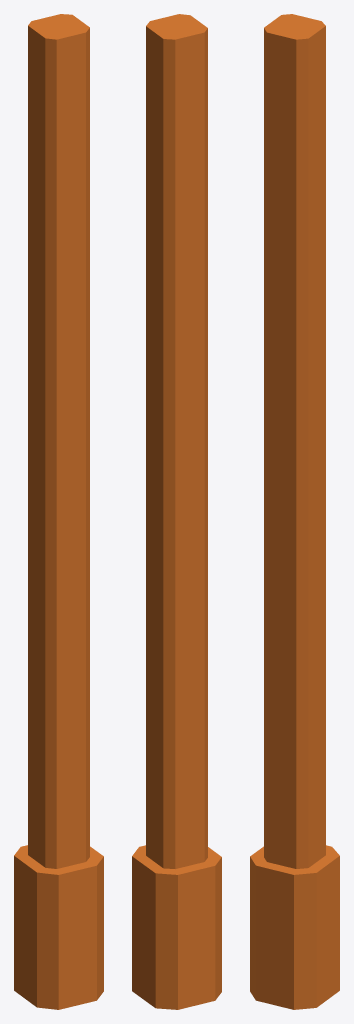
The model's file is Egyptian_pillar1.FBX.
The picture shows the model from 3 angles, left to right: view 1: azimuth 30°, elevation 25°; view 2: azimuth 210°, elevation 25°; view 3: azimuth 330°, elevation 25°; orthographic projection.
Parts seen in each view (by area): view 1: Egyptian_pillar1; view 2: Egyptian_pillar1; view 3: Egyptian_pillar1.
Part boxes in pixels (box(x1,y1,x2,y2)): Egyptian_pillar1: box(14, 14, 103, 1009); Egyptian_pillar1: box(132, 14, 221, 1009); Egyptian_pillar1: box(250, 14, 339, 1009).
Size of the model in its own units: 279 by 3845 by 278.
